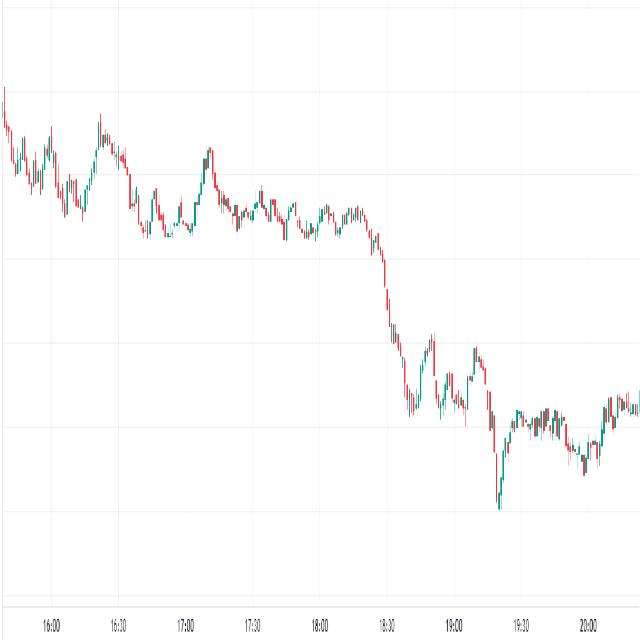Descending-Triangle: (386, 261, 487, 417)
